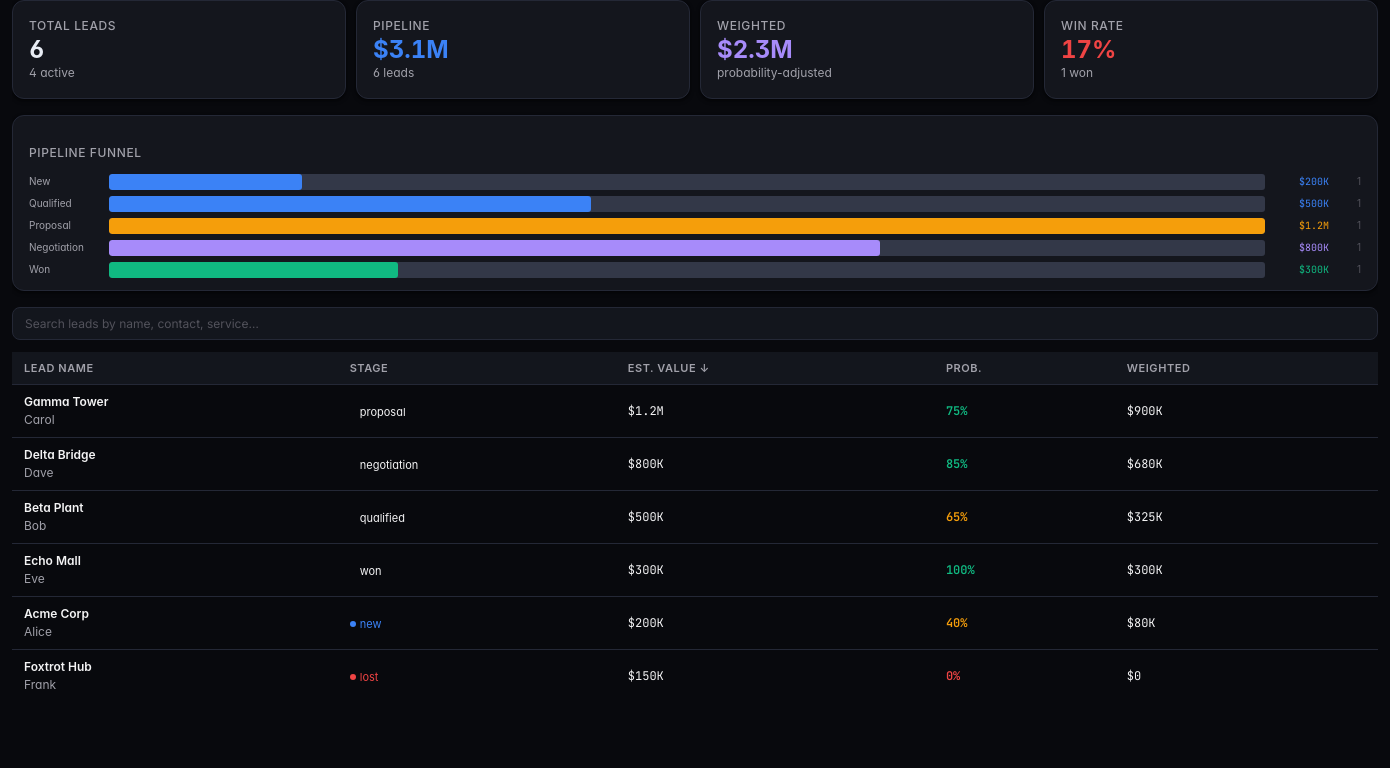
Test: CRMLeads — table › clicking a lead navigates to detail view
Step 1. Click the text "Acme Corp" → (56, 614), box [24, 606, 89, 622]
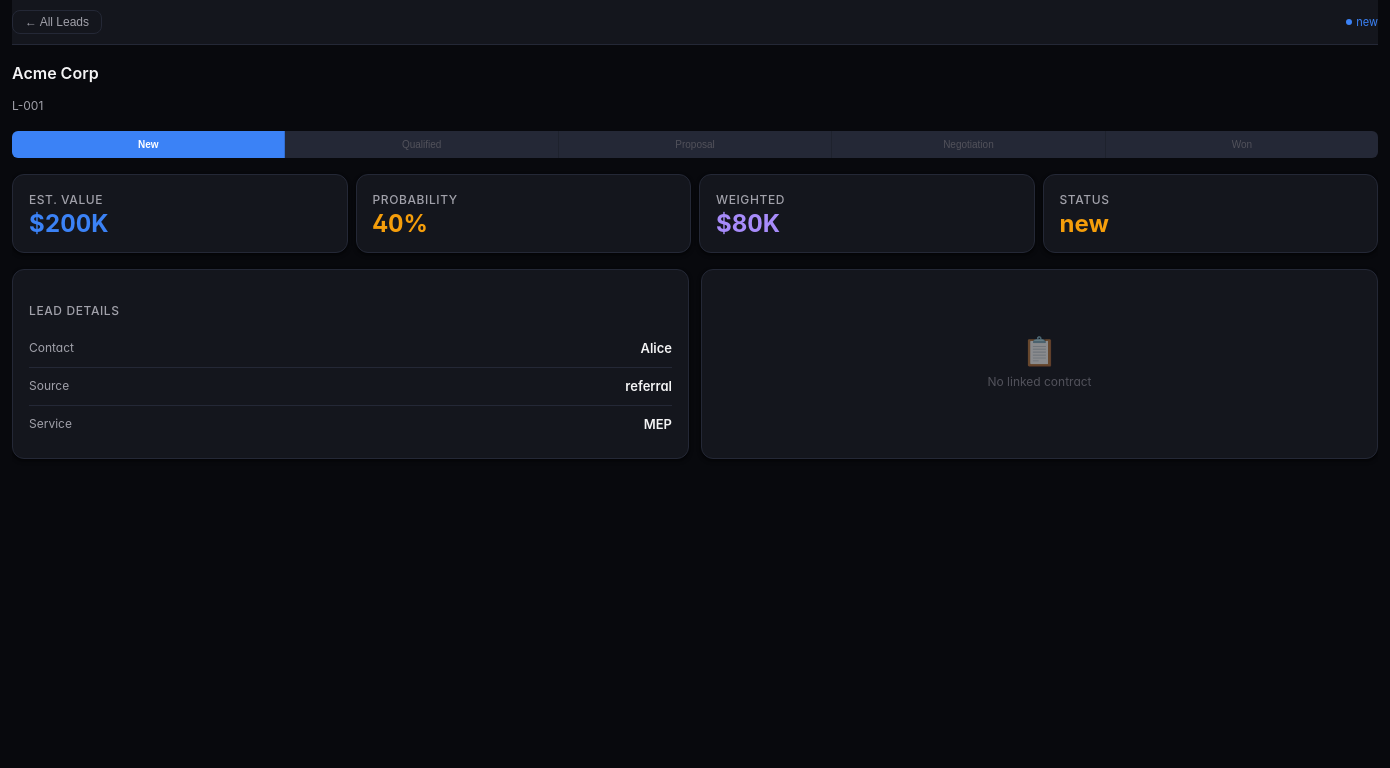
Check: the button "← All Leads" is shown, box [12, 10, 102, 34]
